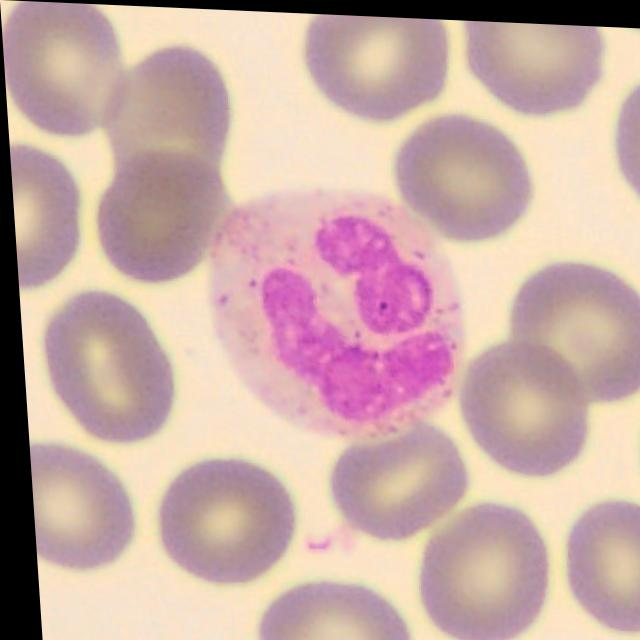Neutrofilo segmentado: (204, 184, 465, 444)
